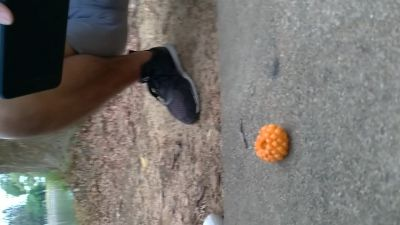eggs: (255, 120, 291, 165)
